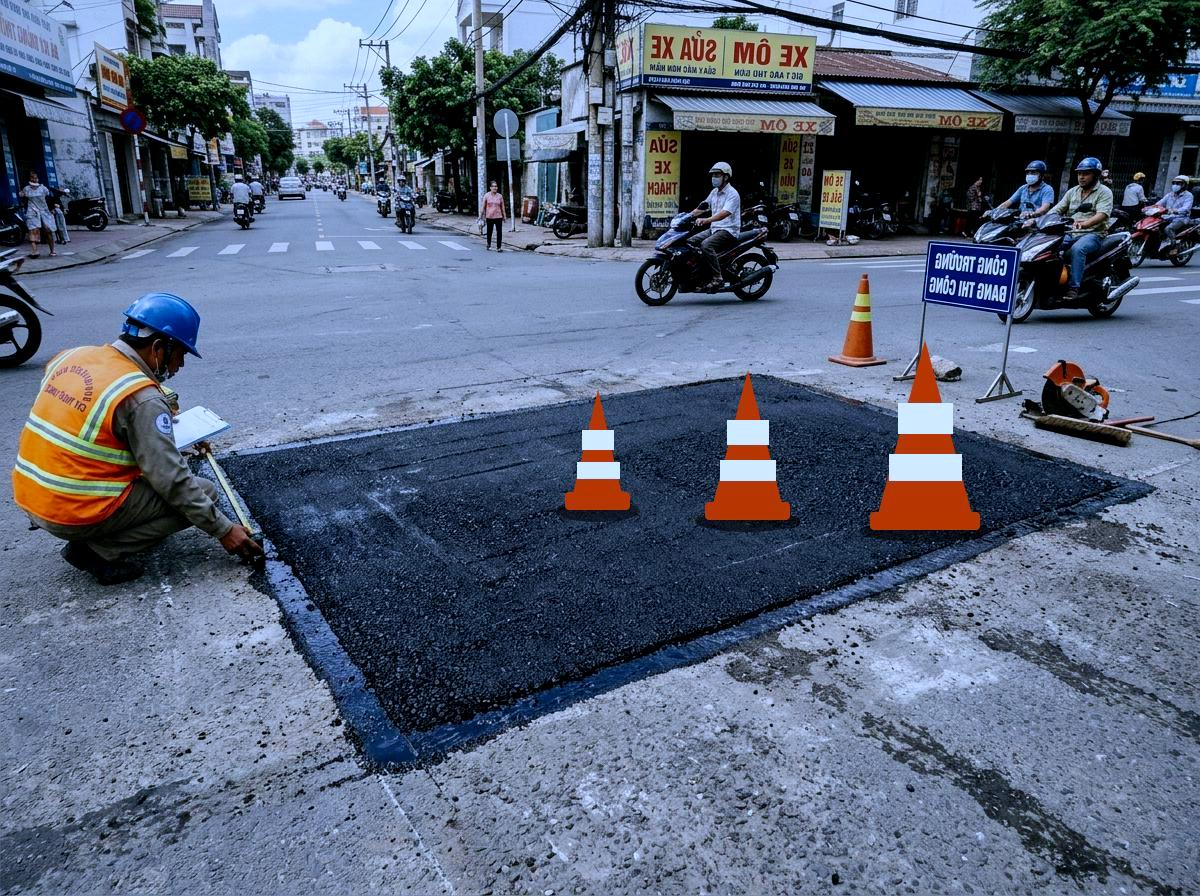ROAD_OBSTACLE: (865, 335, 985, 535), (700, 365, 795, 525), (560, 385, 635, 515)
